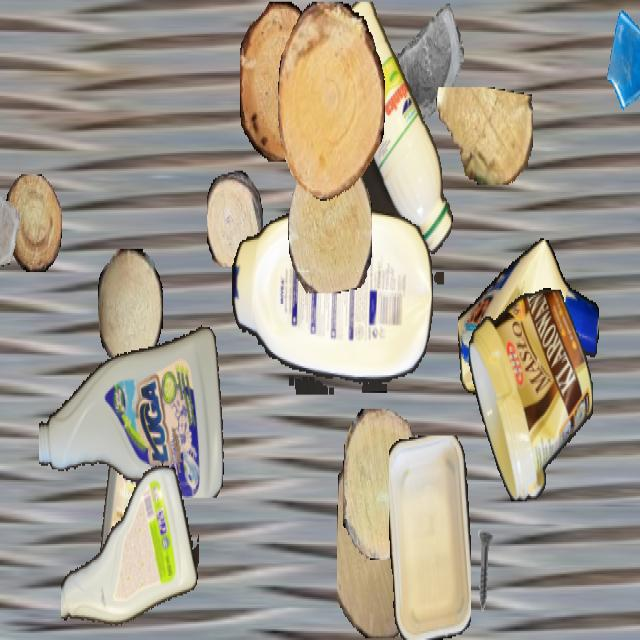glass: (392, 2, 464, 130), (605, 1, 640, 116), (0, 164, 19, 266)
metal: (402, 439, 462, 546), (460, 528, 508, 613)
plastic: (232, 210, 432, 394), (324, 1, 454, 282), (39, 313, 227, 498), (468, 288, 592, 501), (61, 457, 199, 638), (458, 237, 598, 407), (389, 436, 471, 638), (95, 386, 161, 602)
wood: (278, 2, 384, 201), (337, 439, 425, 638), (240, 2, 322, 162), (288, 150, 372, 292), (343, 409, 423, 558), (435, 87, 533, 183), (98, 249, 162, 363), (5, 174, 61, 270), (207, 170, 263, 266)
